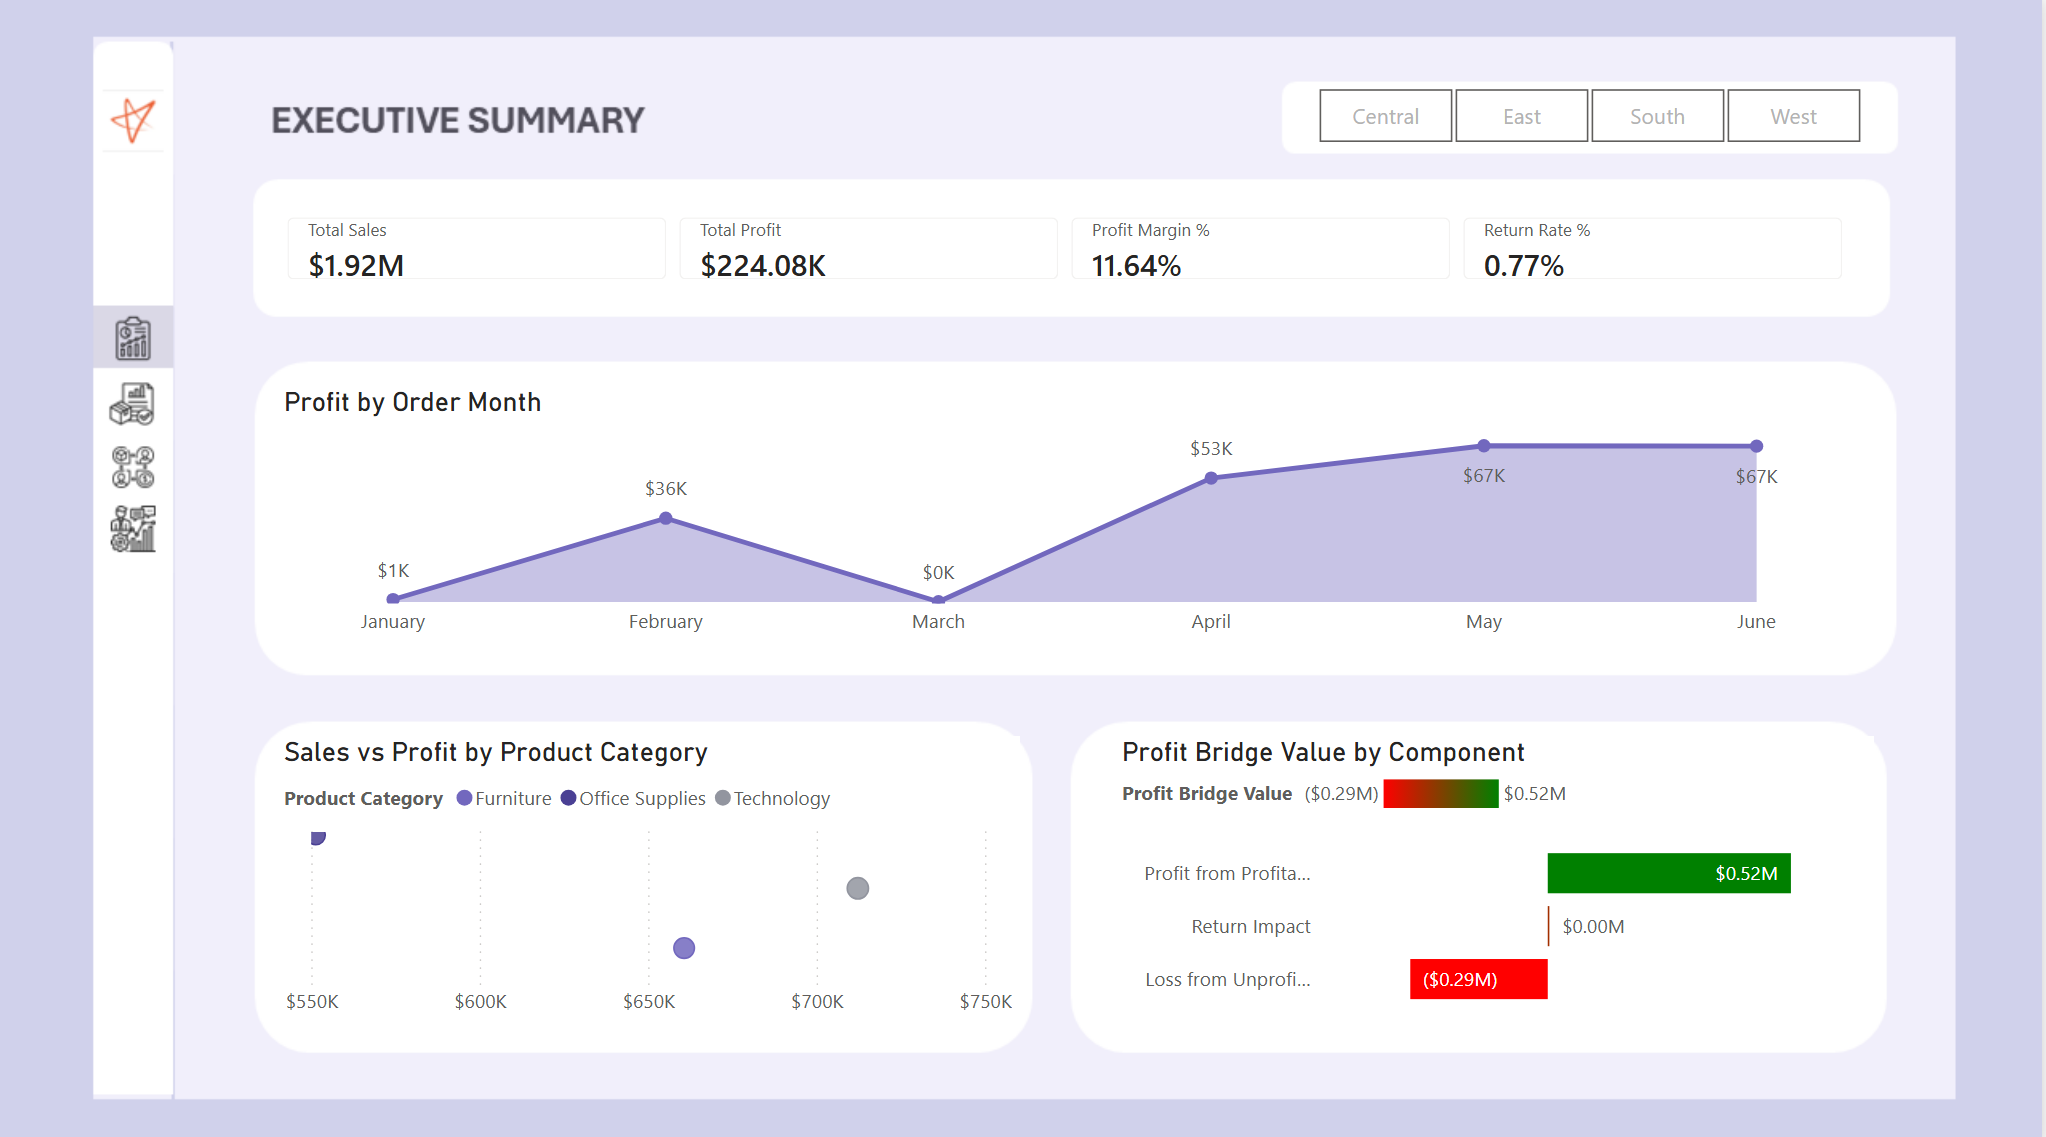

What the dashboard file says about the page in this screenshot:
{"tool":"powerbi","page":{"name":"Page 1","canvas":[1280,720],"ordinal":0},"visuals":[{"type":"areaChart","title":"Profit by Order Month","fields":{"Category":["outputssuperstore_cleaned.Order Date.Variation.Date Hierarchy.Month"],"Y":["Sum(outputssuperstore_cleaned.Profit)"]},"box":[176.8,243.2,998.6,165],"z":0},{"type":"scatterChart","title":"Sales vs Profit by Product Category","fields":{"Y":["Sum(outputssuperstore_cleaned.Profit)"],"Category":["outputssuperstore_cleaned.Product Category"],"Size":["outputssuperstore_cleaned.Total Sales"],"X":["outputssuperstore_cleaned.Total Sales"],"Series":["outputssuperstore_cleaned.Product Category"]},"box":[176.7,462.7,465.1,184.1],"z":1000},{"type":"clusteredBarChart","fields":{"Y":["Profit Bridge.Profit Bridge Value"],"Category":["Profit Bridge.Component"]},"box":[699.5,462.7,474.9,184.1],"z":2000},{"type":"slicer","fields":{"Values":["outputssuperstore_cleaned.Region"]},"box":[802.5,51.4,387.9,47.1],"z":3000},{"type":"cardVisual","fields":{"Data":["outputssuperstore_cleaned.Total Sales","outputssuperstore_cleaned.Total Profit","outputssuperstore_cleaned.Profit Margin %","outputssuperstore_cleaned.Return Rate %"]},"box":[165.7,121.5,1008.8,73.6],"z":4000},{"type":"pageNavigator","box":[71.8,195,32.1,156.4],"z":5000}]}

Visuals, with their boxes on the page's 1280x720 design canvas (x1, y1, x2, y2). These are canvas units, not pixel positions in the 2046x1137 screenshot, which may show the page scaled, cropped or inside an application window:
"Profit by Order Month" areaChart: 177,243,1175,408
"Sales vs Profit by Product Category" scatterChart: 177,463,642,647
clusteredBarChart - Profit Bridge.Profit Bridge Value x Profit Bridge.Component: 700,463,1174,647
slicer - outputssuperstore_cleaned.Region: 802,51,1190,98
cardVisual - outputssuperstore_cleaned.Total Sales x outputssuperstore_cleaned.Total Profit: 166,122,1174,195
pageNavigator: 72,195,104,351
